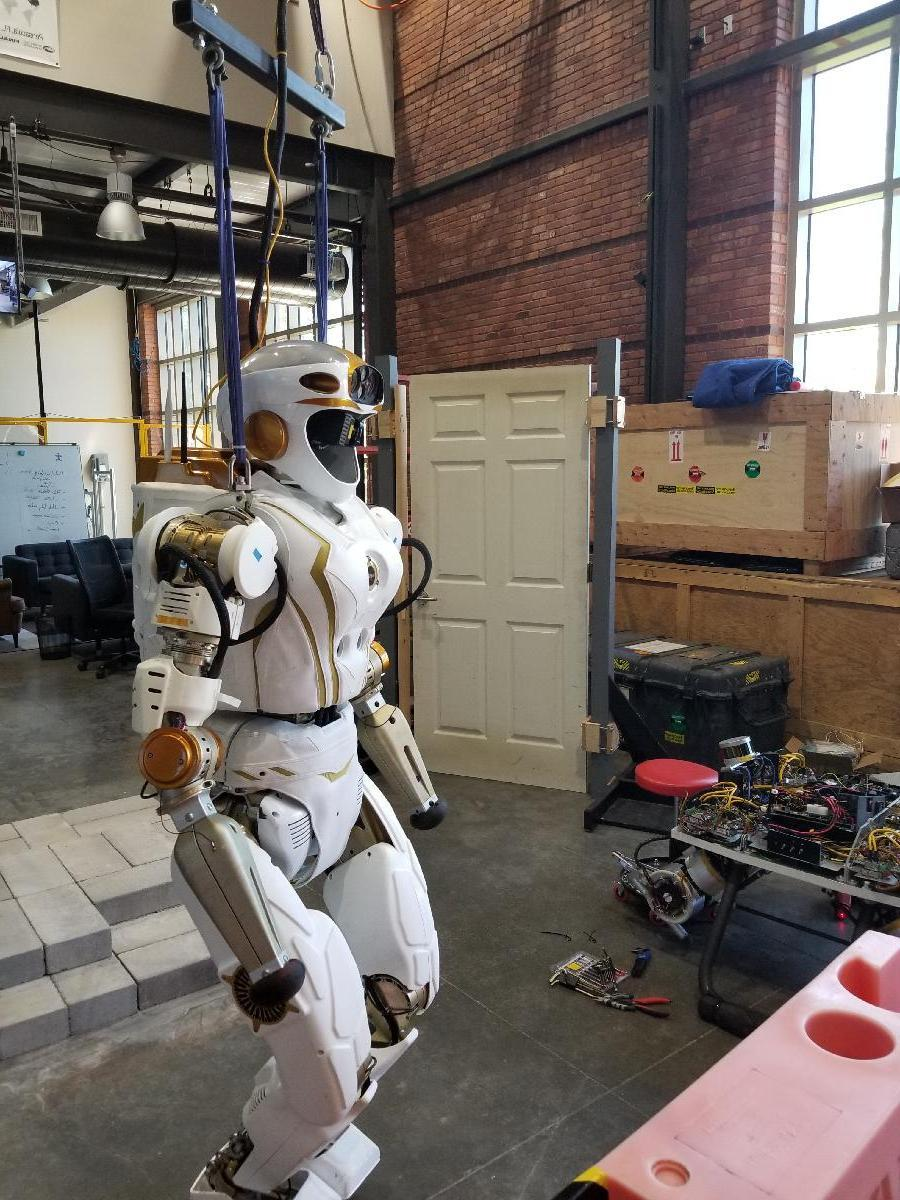door: (396, 358, 591, 791)
handle: (410, 588, 436, 613)
